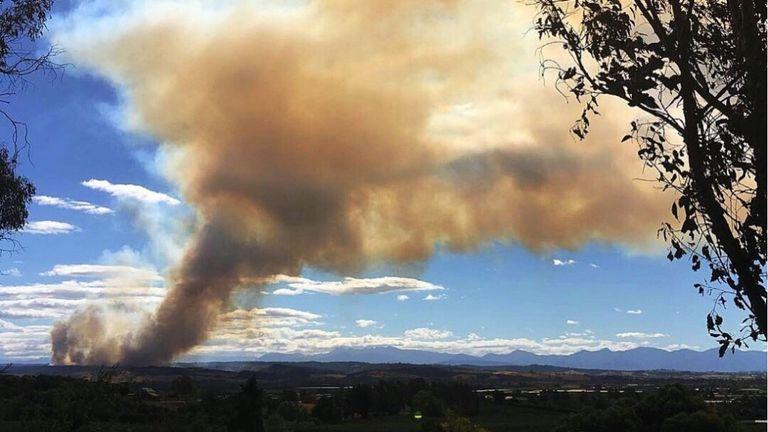smoke: (45, 11, 468, 370)
